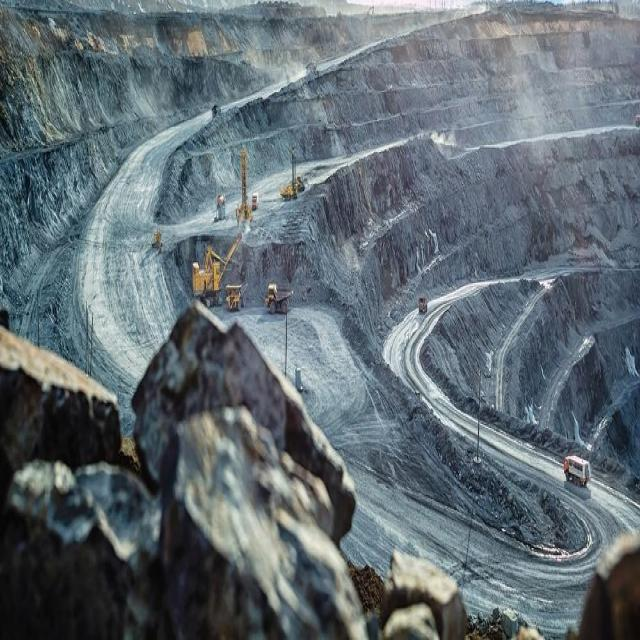dump_truck: (563, 452, 592, 491), (266, 280, 292, 312), (226, 283, 245, 312), (418, 292, 430, 322), (241, 299, 244, 300)
excavator: (193, 236, 246, 280)
